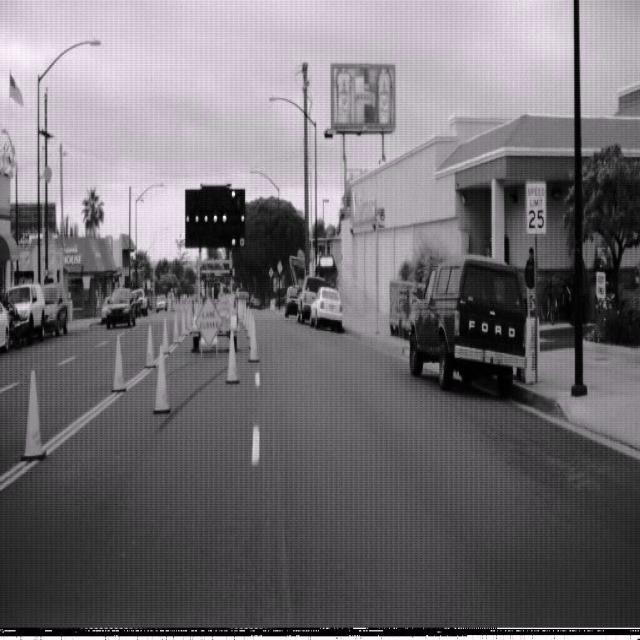speedLimit25: (525, 178, 546, 235)
